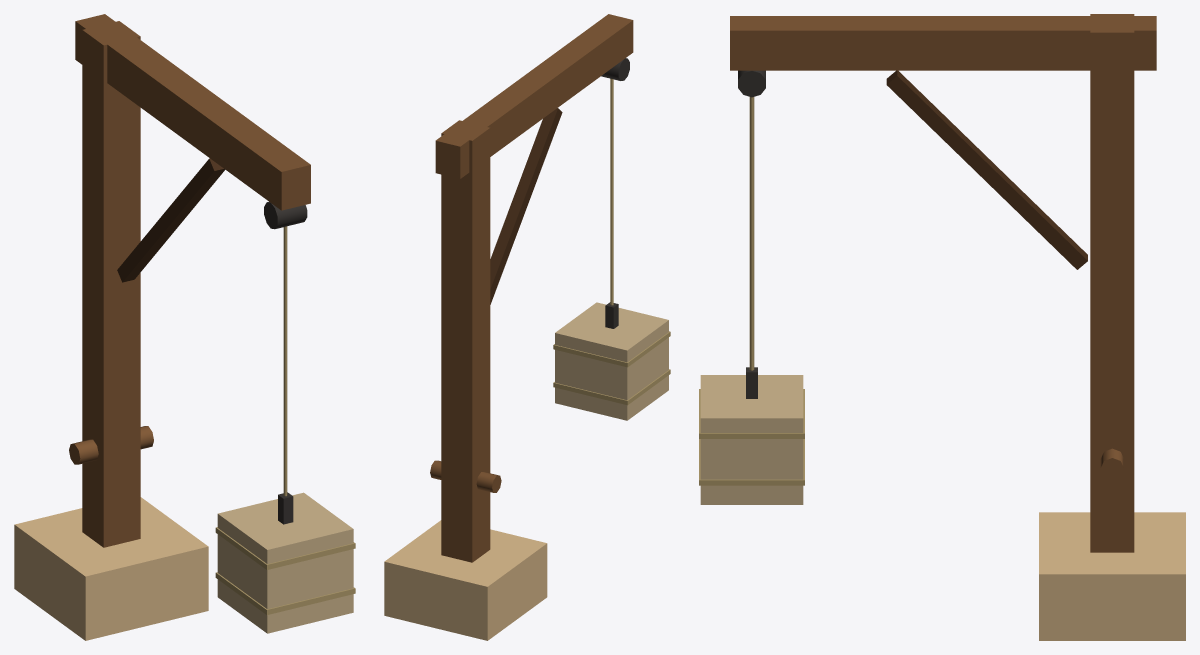
Rendered from dc_crane.glb.
3 renders of one model, left to right at view 1: azimuth 30°, elevation 25°; view 2: azimuth 150°, elevation 25°; view 3: azimuth 270°, elevation 25°, orthographic. The views are drawn at different scales.
Parts seen in each view (by area): view 1: dc_crane; view 2: dc_crane; view 3: dc_crane.
Part boxes in pixels (x1=…): dc_crane: x1=14, y1=14, x2=355, y2=640; dc_crane: x1=384, y1=14, x2=670, y2=640; dc_crane: x1=699, y1=14, x2=1185, y2=640.
Bounding box in the file's own units: 1 × 4.4 × 3.31.
